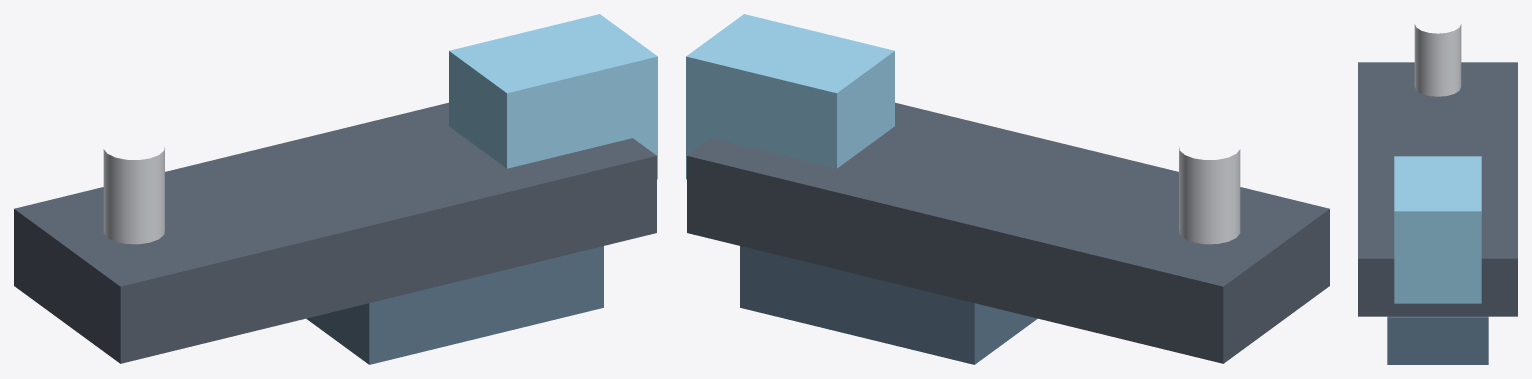
File: microcontroller_8051_timers_uart.glb
3 renders of one model, left to right at view 1: azimuth 30°, elevation 25°; view 2: azimuth 150°, elevation 25°; view 3: azimuth 270°, elevation 25°, orthographic. The views are drawn at different scales.
Visible parts, largest first — view 1: DIP40Microcontroller8051IC, DB9SerialPortConnector, MAX232LevelShifterIC, CrystalClockResonator11MHz; view 2: DIP40Microcontroller8051IC, DB9SerialPortConnector, MAX232LevelShifterIC, CrystalClockResonator11MHz; view 3: DIP40Microcontroller8051IC, DB9SerialPortConnector, MAX232LevelShifterIC, CrystalClockResonator11MHz.
Part boxes in pixels (box(x1,y1,x2,y2)): DIP40Microcontroller8051IC: box(14, 102, 656, 363); DB9SerialPortConnector: box(449, 14, 657, 179); MAX232LevelShifterIC: box(306, 246, 603, 364); CrystalClockResonator11MHz: box(103, 147, 164, 244); DIP40Microcontroller8051IC: box(687, 102, 1329, 363); DB9SerialPortConnector: box(686, 14, 894, 179); MAX232LevelShifterIC: box(740, 246, 1037, 364); CrystalClockResonator11MHz: box(1179, 147, 1240, 244); DIP40Microcontroller8051IC: box(1358, 62, 1517, 316); DB9SerialPortConnector: box(1394, 156, 1481, 303); MAX232LevelShifterIC: box(1387, 316, 1488, 364); CrystalClockResonator11MHz: box(1414, 24, 1461, 96).
Bounding box in the file's own units: 1.68 × 0.69 × 0.55.
